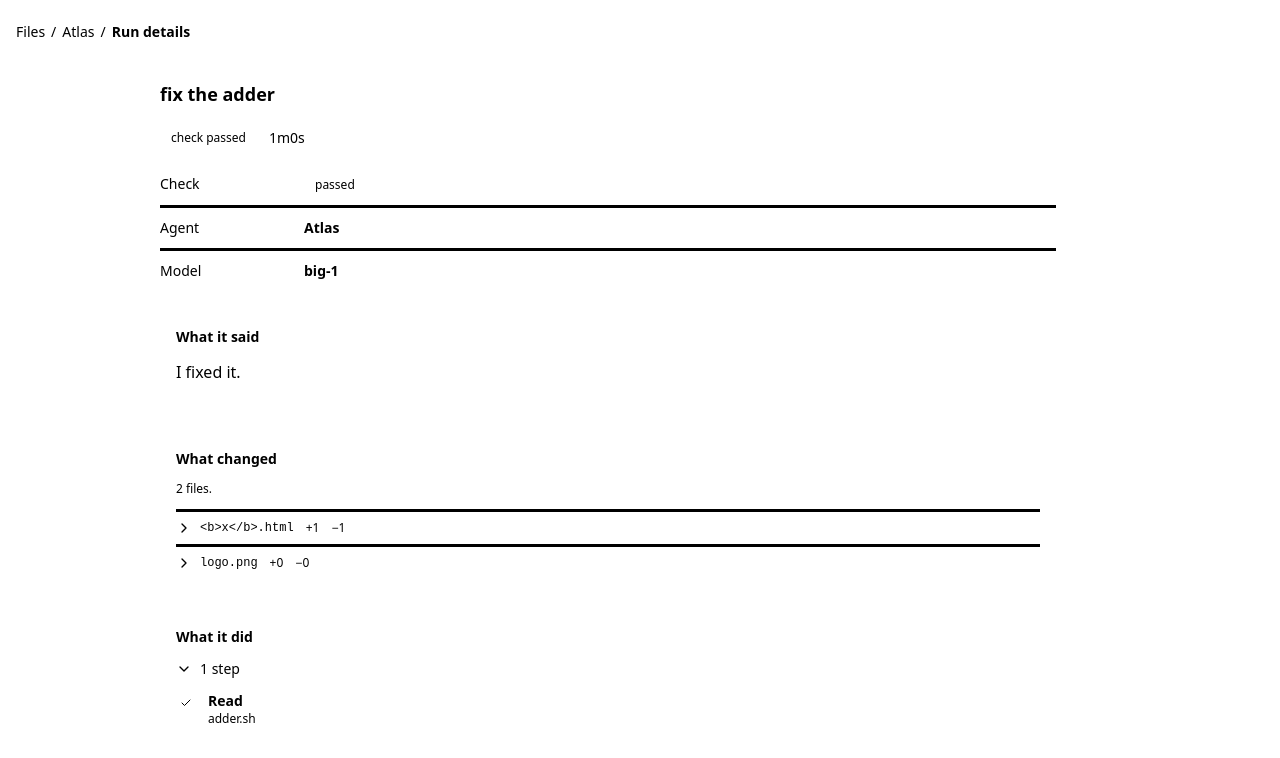
a task's page › draws the patch file by file, as text, line by line
Expected: the text "2 files." is shown, [176,480,212,497]
Click the button "<b>x</b>.html +1 −1": [261, 528] box [176,520,345,536]
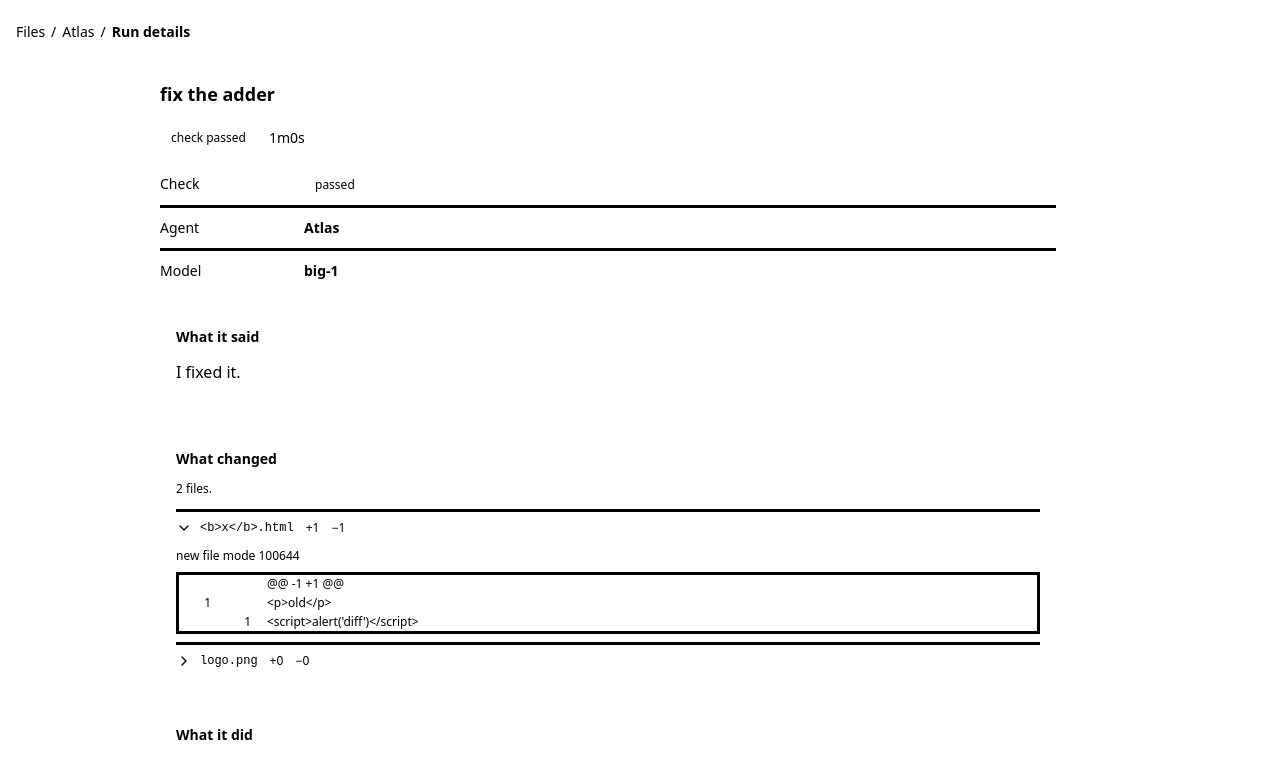
Click the button "logo.png +0 −0": [243, 661] box [176,653,309,669]
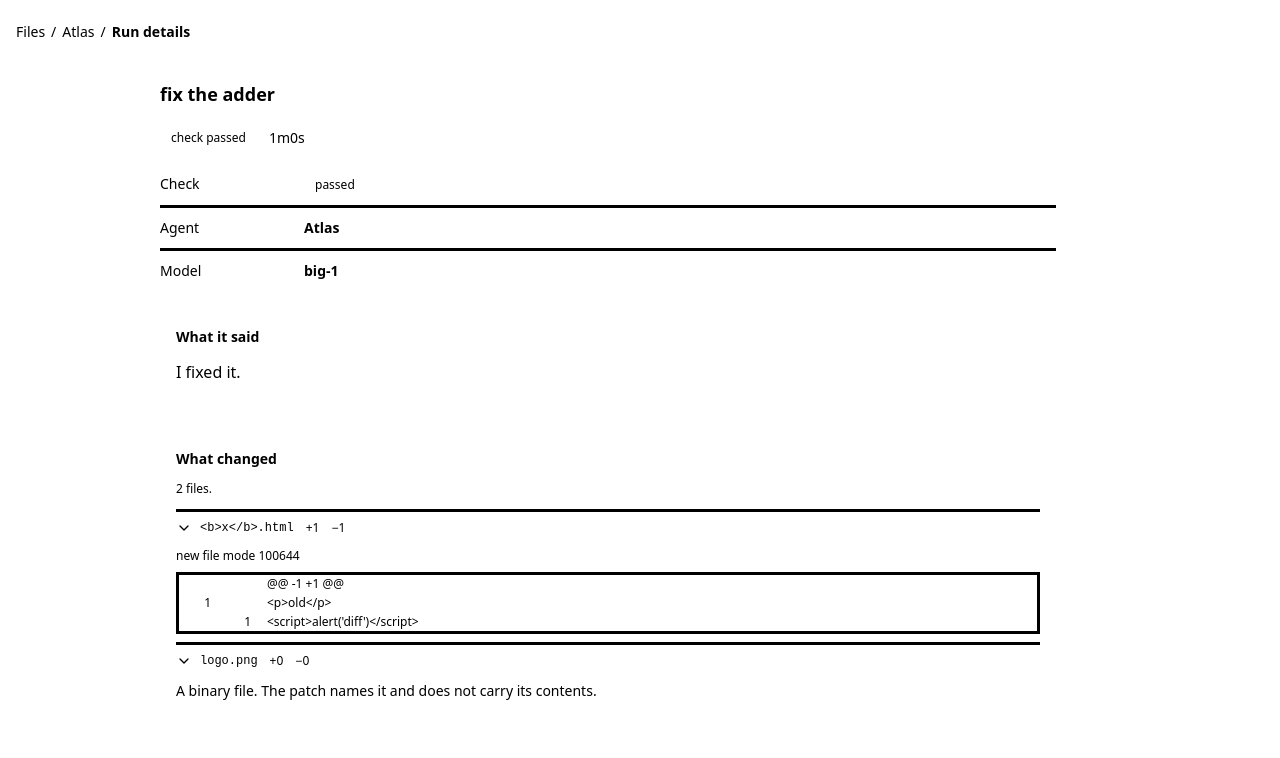
Now the element with test id "patch-file" shows "A binary file. The patch names it and does not carry its contents.", box [176,681,597,700]
